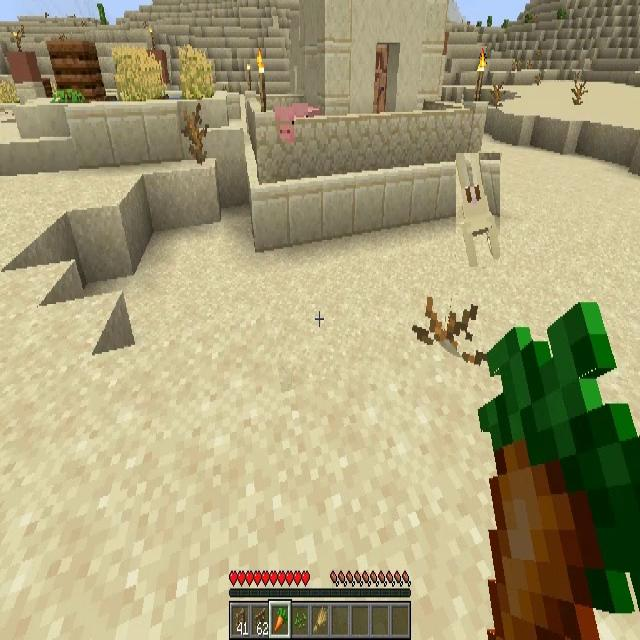pig: (274, 108, 294, 138)
rabbit: (456, 153, 500, 267)
